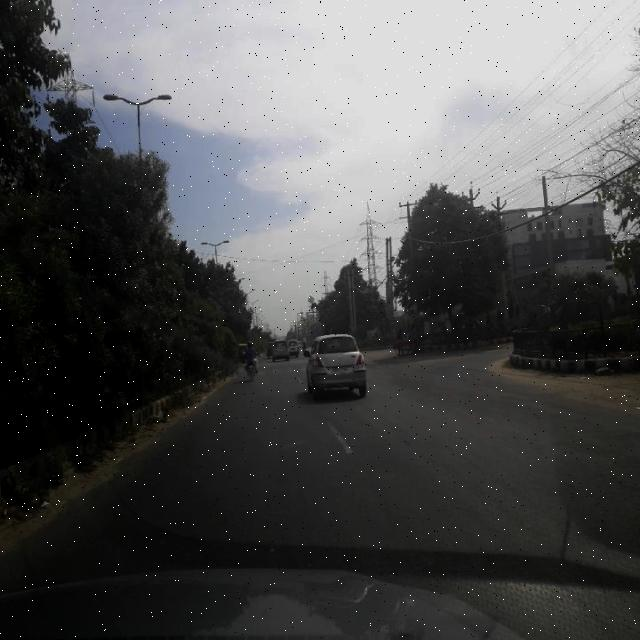D20: (53, 397, 639, 567)
